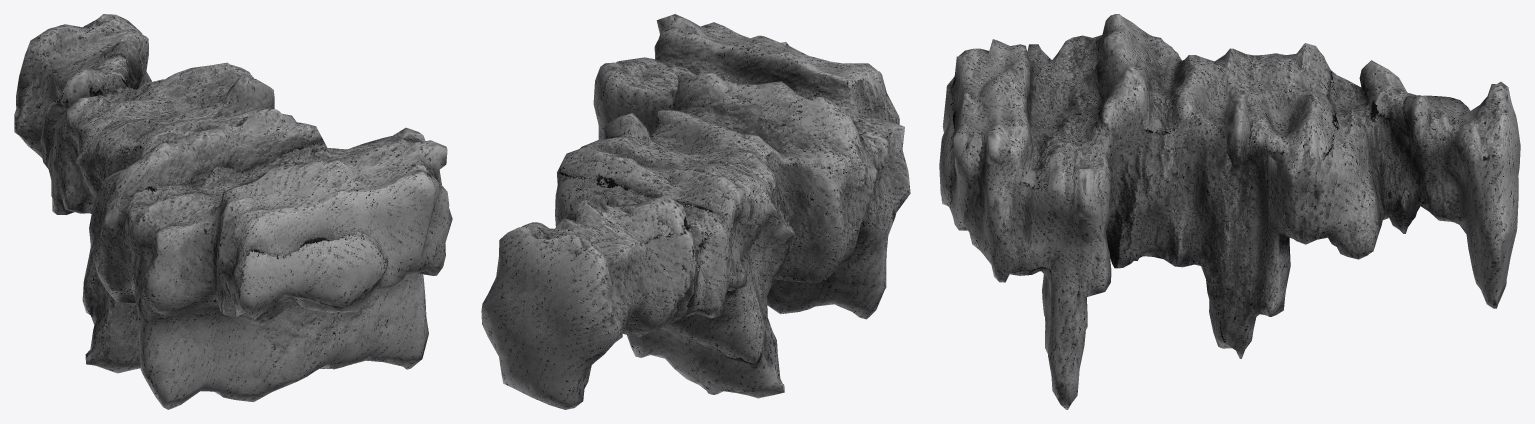
The model's file is friend_rock_wall_based.obj.
The picture shows the model from 3 angles, left to right: view 1: azimuth 30°, elevation 25°; view 2: azimuth 150°, elevation 25°; view 3: azimuth 270°, elevation 25°; orthographic projection. The views are drawn at different scales.
Parts seen in each view (by area): view 1: friend_rock_wall_based_pn_paul_rock_low_poly_Cube.005; view 2: friend_rock_wall_based_pn_paul_rock_low_poly_Cube.005; view 3: friend_rock_wall_based_pn_paul_rock_low_poly_Cube.005.
Boxes of the visible parts, x1,y1,x2,y2 form: friend_rock_wall_based_pn_paul_rock_low_poly_Cube.005: [14, 14, 452, 409]; friend_rock_wall_based_pn_paul_rock_low_poly_Cube.005: [481, 14, 910, 409]; friend_rock_wall_based_pn_paul_rock_low_poly_Cube.005: [939, 14, 1520, 409].
Size of the model in its own units: 1.35 by 1.19 by 2.09.
